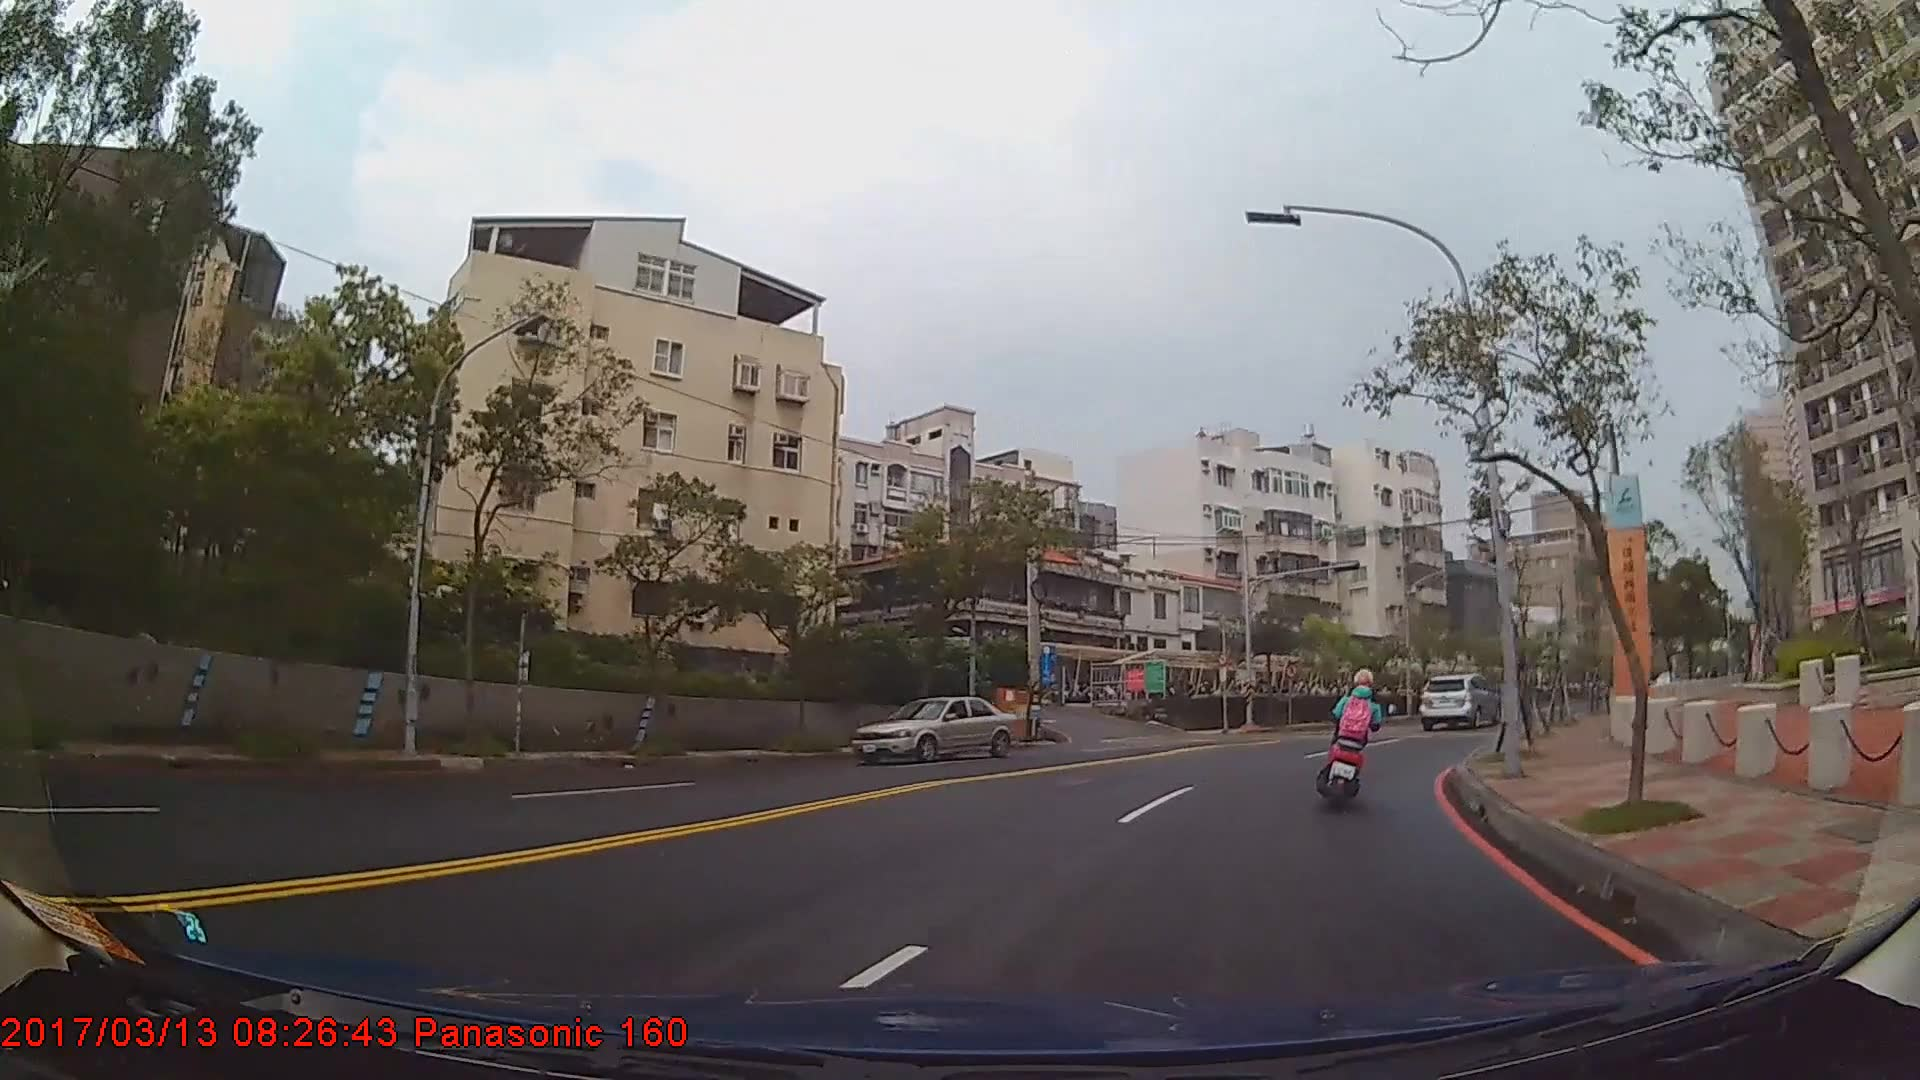rider: (1323, 670, 1385, 801)
vehicle: (848, 698, 1018, 767), (1417, 674, 1498, 729)
